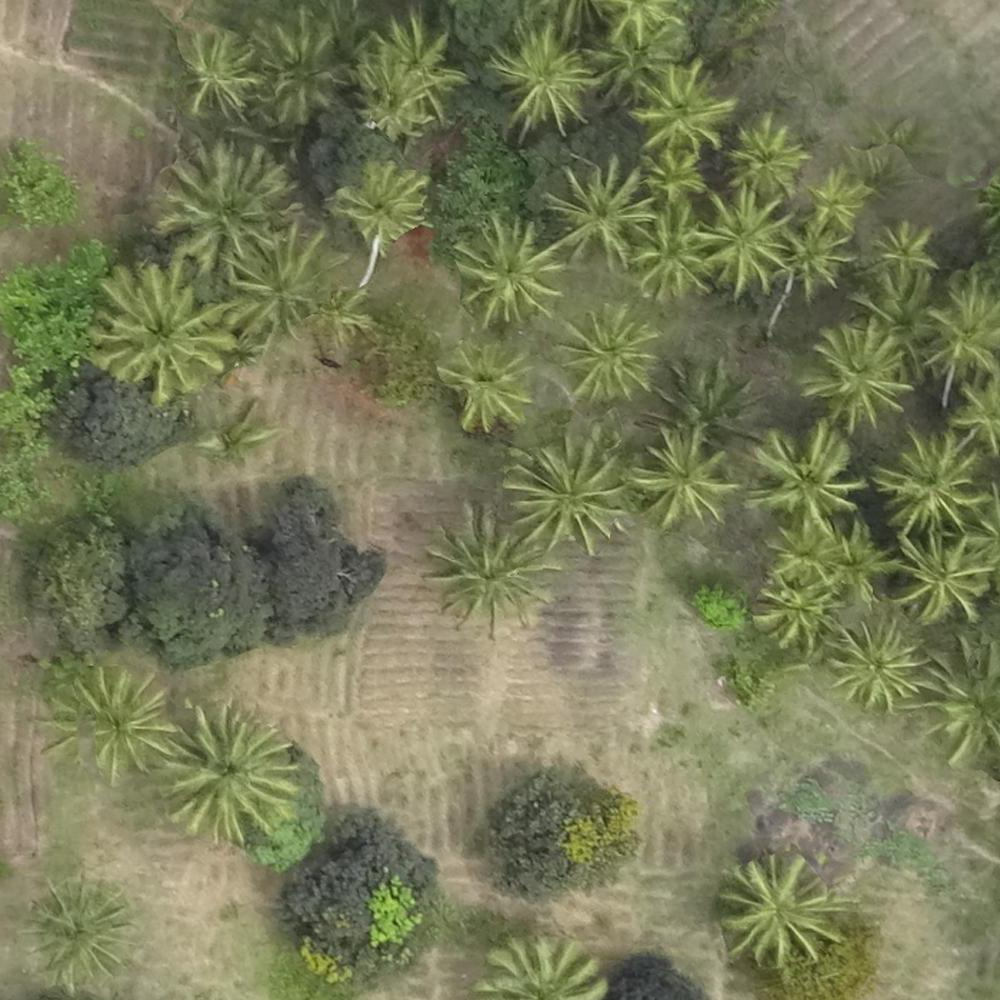Palm: (93, 266, 232, 391), (150, 140, 288, 259), (163, 707, 286, 837), (428, 511, 547, 621), (505, 439, 625, 544), (748, 422, 864, 527), (724, 858, 840, 962), (61, 664, 169, 772), (876, 423, 989, 525), (227, 231, 337, 335), (25, 873, 125, 984), (452, 219, 555, 319), (487, 29, 591, 127), (807, 322, 905, 422), (894, 526, 990, 626), (628, 429, 733, 519), (912, 647, 1000, 753), (697, 191, 791, 290), (252, 16, 346, 111), (550, 164, 645, 258), (436, 339, 534, 429), (630, 64, 728, 154), (561, 309, 653, 398), (621, 204, 710, 296), (366, 13, 463, 92), (830, 625, 919, 708), (336, 160, 426, 239), (169, 29, 258, 108), (820, 518, 899, 598), (722, 115, 802, 194), (929, 284, 1000, 372), (774, 217, 849, 295), (754, 573, 834, 646), (353, 63, 433, 136), (800, 164, 872, 233), (767, 519, 843, 584), (870, 227, 938, 284), (640, 149, 707, 206)
